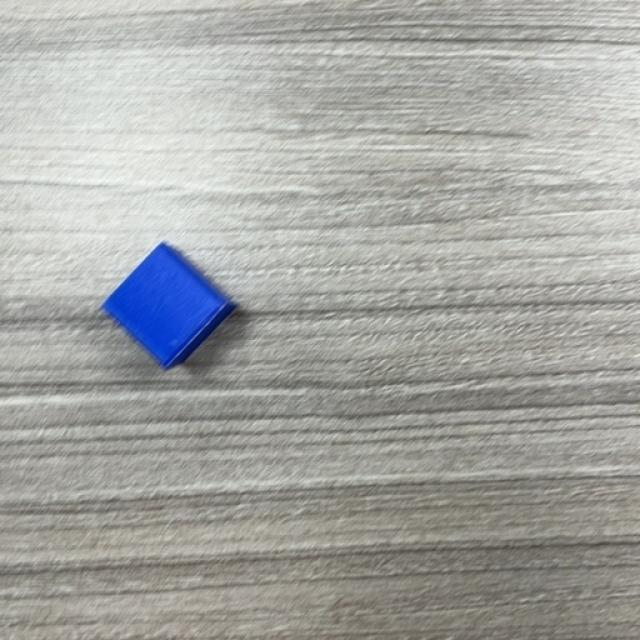Azul: (99, 242, 239, 371)
